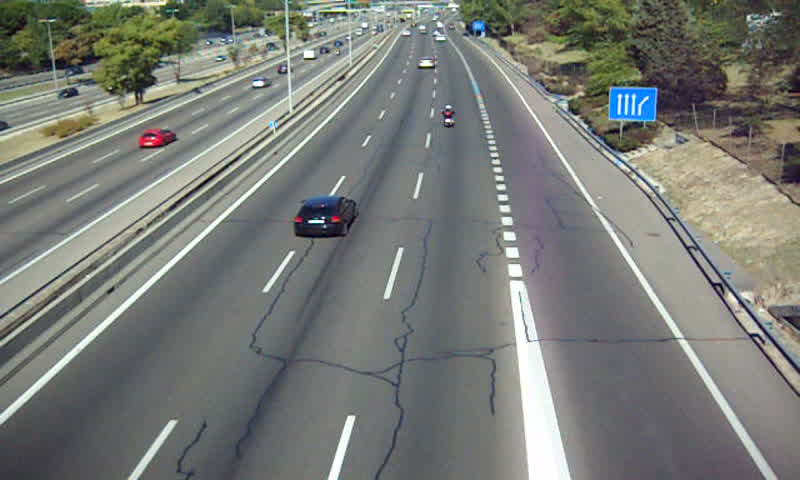car: (295, 196, 359, 236), (417, 58, 435, 71)
motorcycle: (440, 105, 458, 130)
